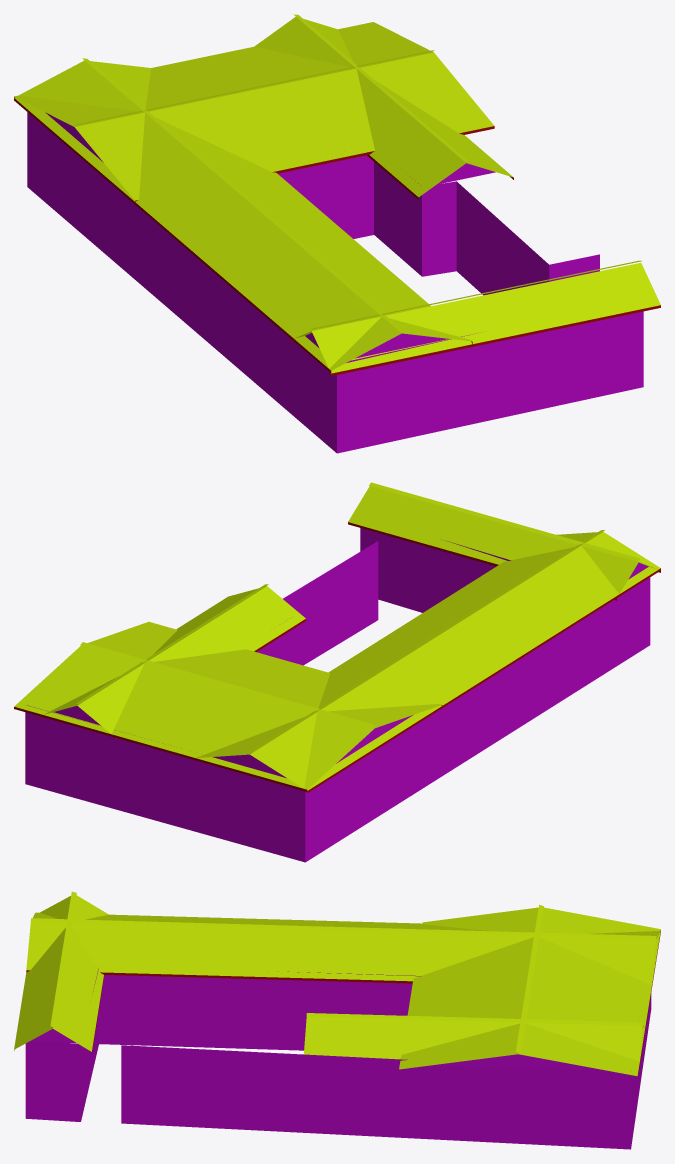
Rendered from bgj_377.glb.
3 views of the same model, one above another, from view 1: azimuth 30°, elevation 25°; view 2: azimuth 150°, elevation 25°; view 3: azimuth 270°, elevation 25° (orthographic). The views are drawn at different scales.
Parts seen in each view (by area): view 1: bgj_377; view 2: bgj_377; view 3: bgj_377.
Boxes of the visible parts, bbox=[...] form: bgj_377: bbox=[14, 14, 660, 453]; bgj_377: bbox=[14, 482, 660, 862]; bgj_377: bbox=[14, 891, 660, 1149].
Bounding box in the file's own units: 18.33 × 5.08 × 30.4.
